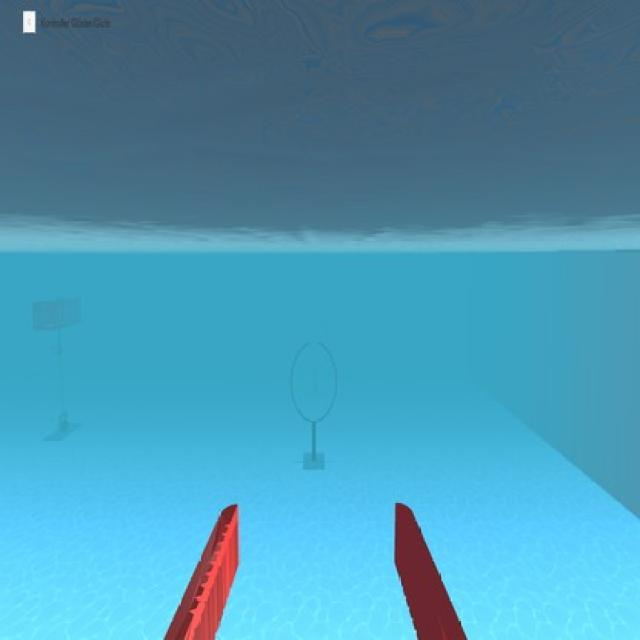Circle: (286, 340, 340, 426)
